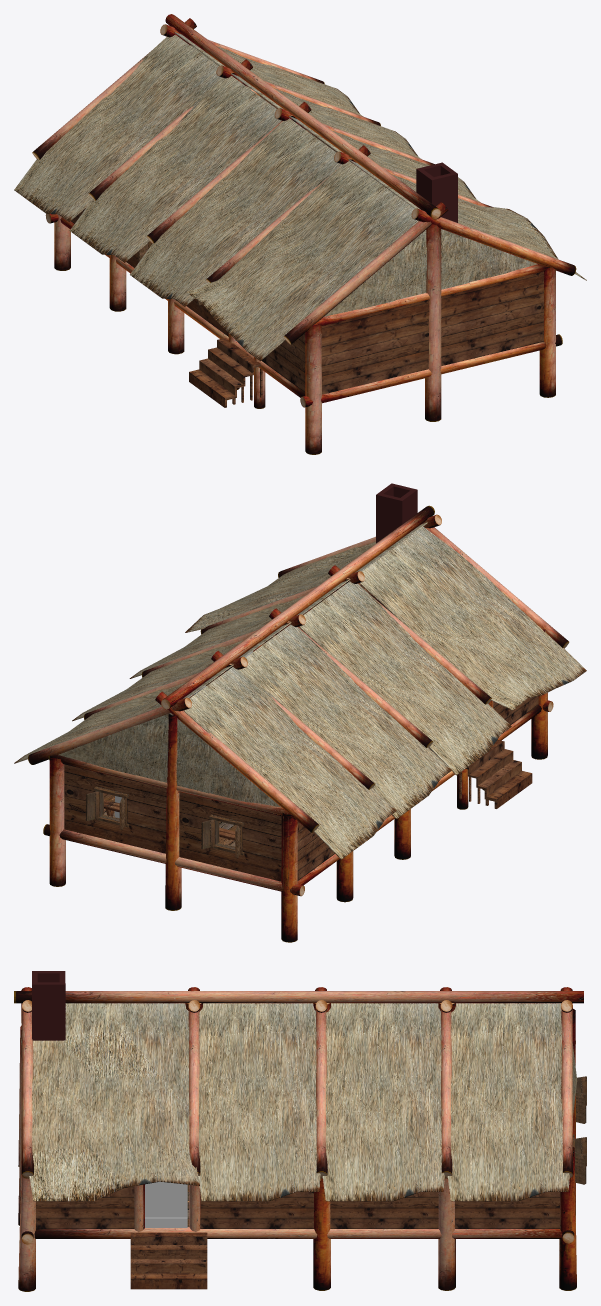
File: tavern_var1_ver_002.fbx
3 renders of one model, top to bottom at view 1: azimuth 30°, elevation 25°; view 2: azimuth 150°, elevation 25°; view 3: azimuth 270°, elevation 25°, orthographic. The views are drawn at different scales.
Visible parts, largest first — view 1: tavern, bake; view 2: tavern, bake; view 3: tavern, bake, pCube60.
Part boxes in pixels (box(x1,y1,x2,y2)): tavern: box(14, 14, 586, 454); bake: box(416, 162, 457, 222); tavern: box(14, 505, 586, 942); bake: box(376, 483, 417, 614); tavern: box(14, 987, 583, 1291); bake: box(32, 971, 65, 1040); pCube60: box(145, 1181, 187, 1227).
Bounding box in the file's own units: 199 × 140 × 282.
